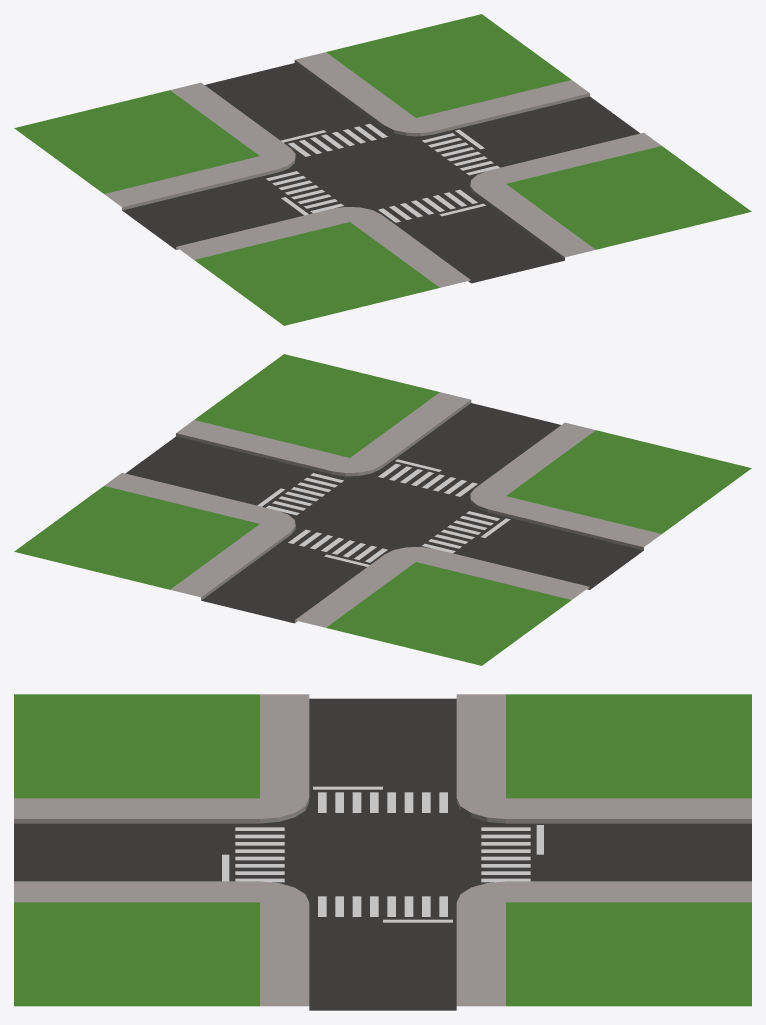
Rendered from tiles-nb_tile-road-intersection-nb.fbx.
3 views of the same model, one above another, from view 1: azimuth 30°, elevation 25°; view 2: azimuth 150°, elevation 25°; view 3: azimuth 270°, elevation 25° (orthographic). The views are drawn at different scales.
Visible parts, largest first — view 1: tiles_nb_tile_road_intersection_nb; view 2: tiles_nb_tile_road_intersection_nb; view 3: tiles_nb_tile_road_intersection_nb.
Boxes of the visible parts, x1,y1,x2,y2 form: tiles_nb_tile_road_intersection_nb: (14, 14, 751, 325); tiles_nb_tile_road_intersection_nb: (14, 354, 751, 665); tiles_nb_tile_road_intersection_nb: (14, 694, 751, 1010).
Size of the model in its own units: 200 by 1.33 by 200.
